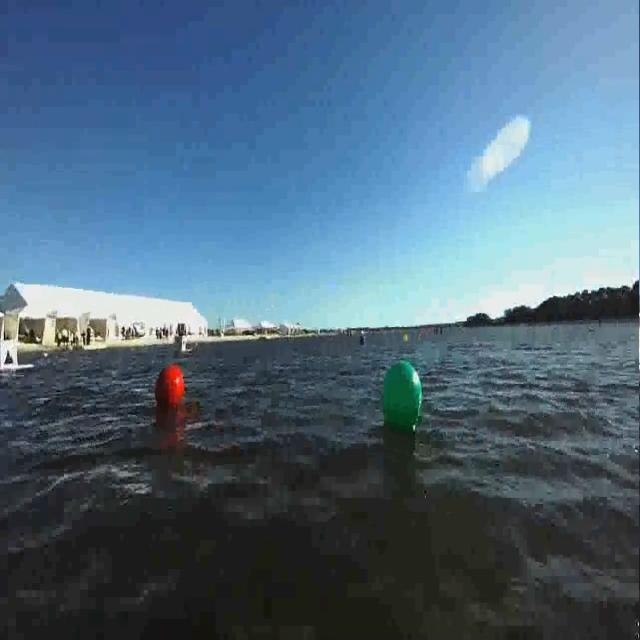blue-buoy: (359, 333, 366, 347)
green-buoy: (381, 360, 424, 438)
red-buoy: (156, 362, 188, 411)
yellow-buoy: (402, 334, 408, 346)
